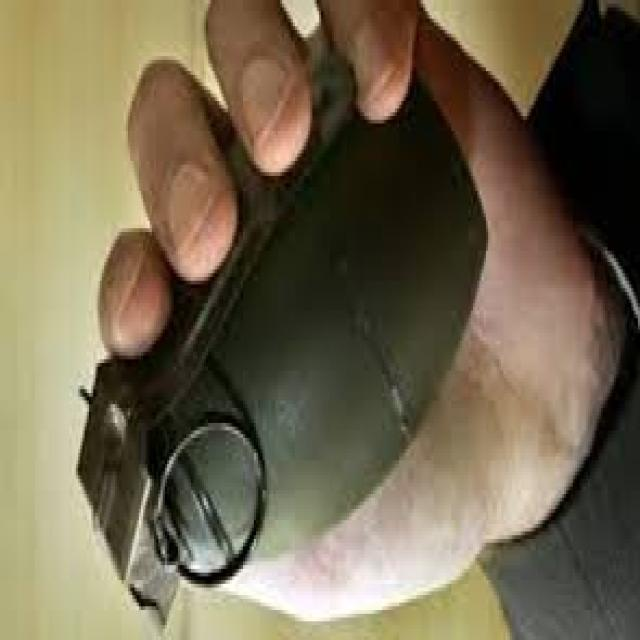grenade: (68, 41, 492, 637)
